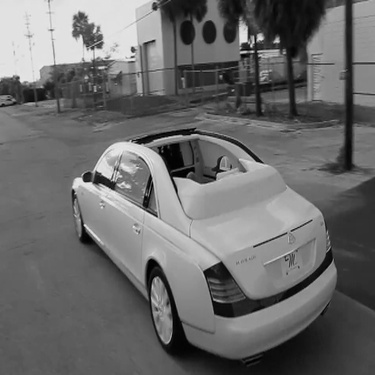car: (68, 129, 339, 369)
